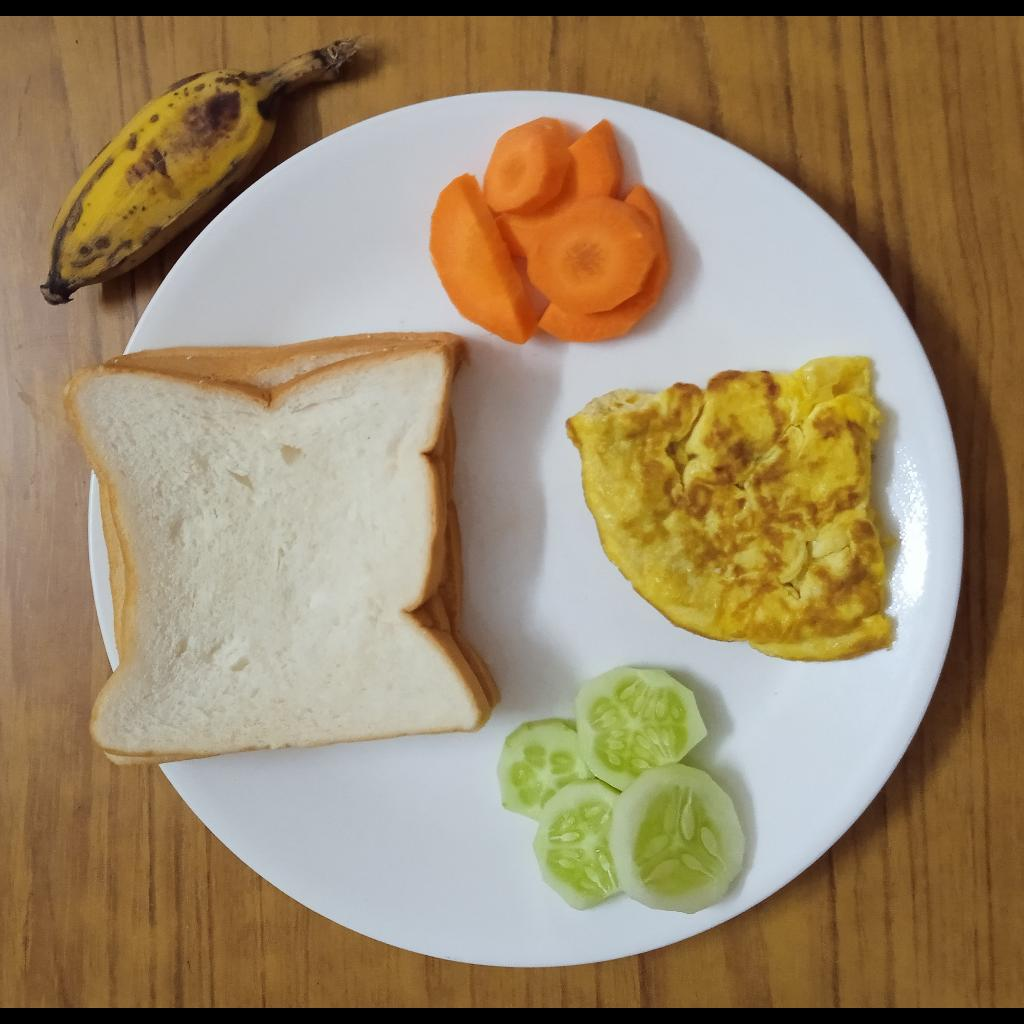banana: (39, 41, 351, 303)
bread: (60, 332, 505, 769)
carrot: (430, 116, 670, 347)
cucumber: (497, 667, 747, 916)
egg-poached: (567, 358, 898, 663)
